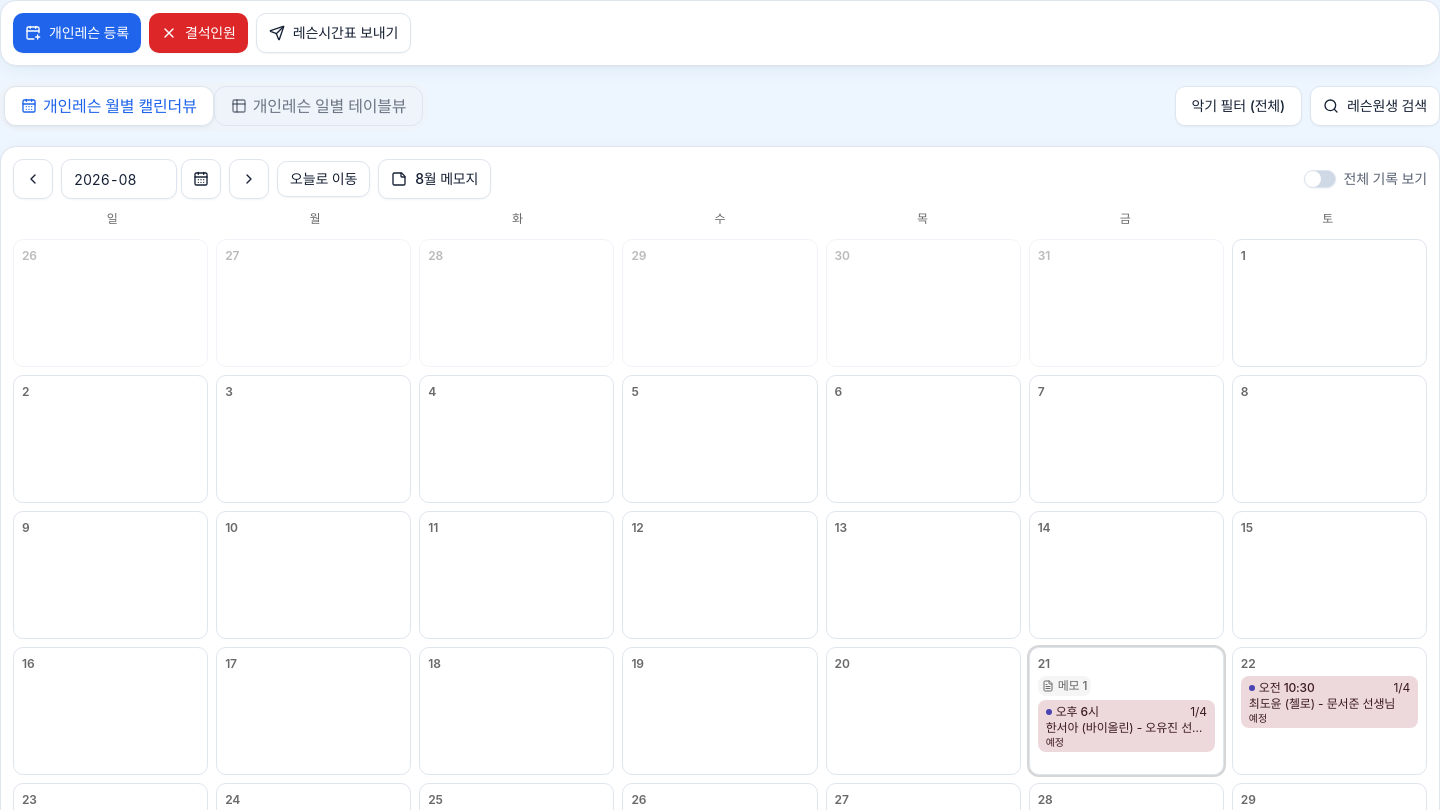
it: 개인레슨표 결석 사유 › 출석 확인에서 사유를 입력해 결석 처리하면 결석인원 표 사유 열에 바로 보인다
Click the cell "21 메모 1 오후 6시 1/4 한서아 (바이올린) - 오유진 선생님 예정" at (1126, 711), box [1029, 647, 1224, 775]
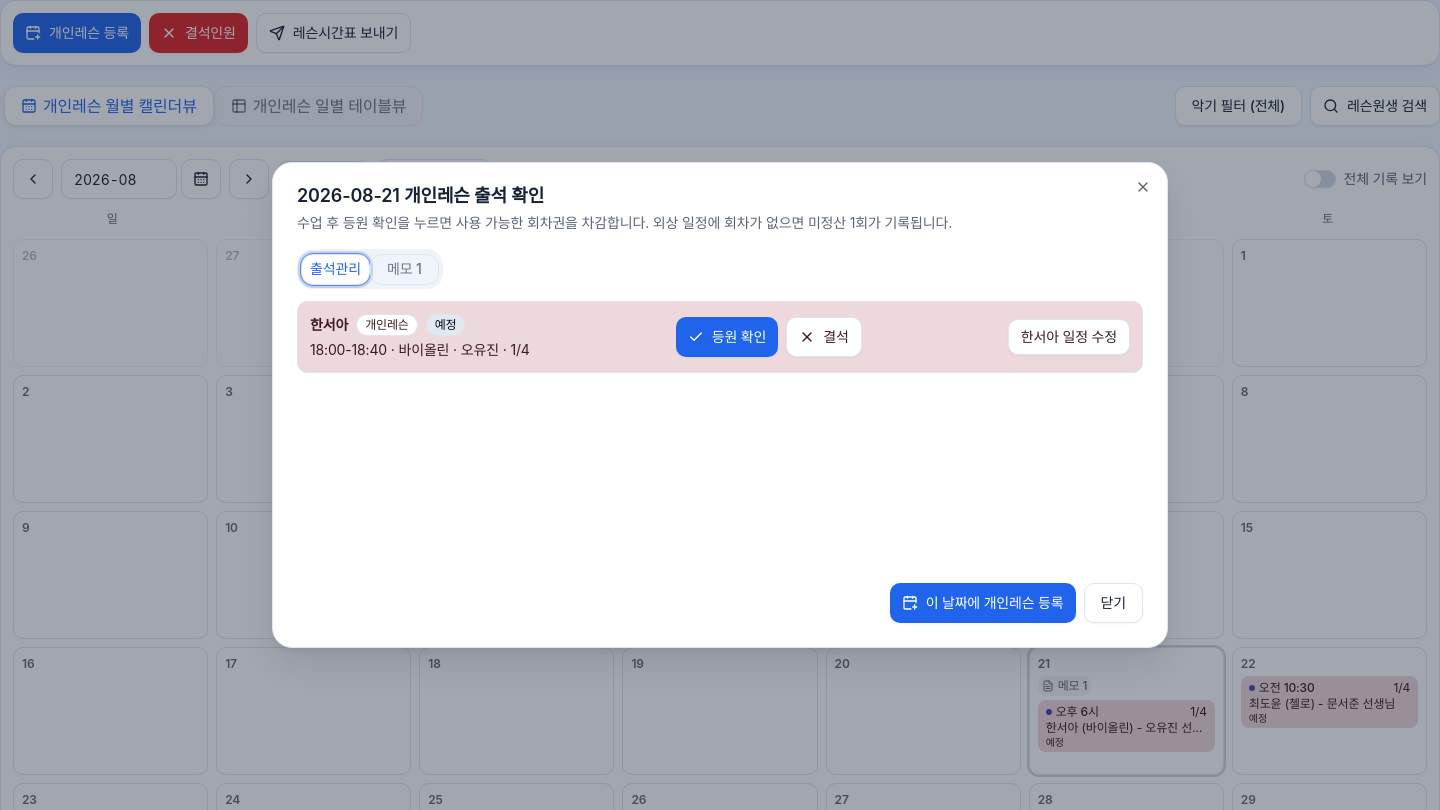
Click the button with aria-label "한서아 개인레슨 결석" at (824, 337), box [786, 317, 862, 357]
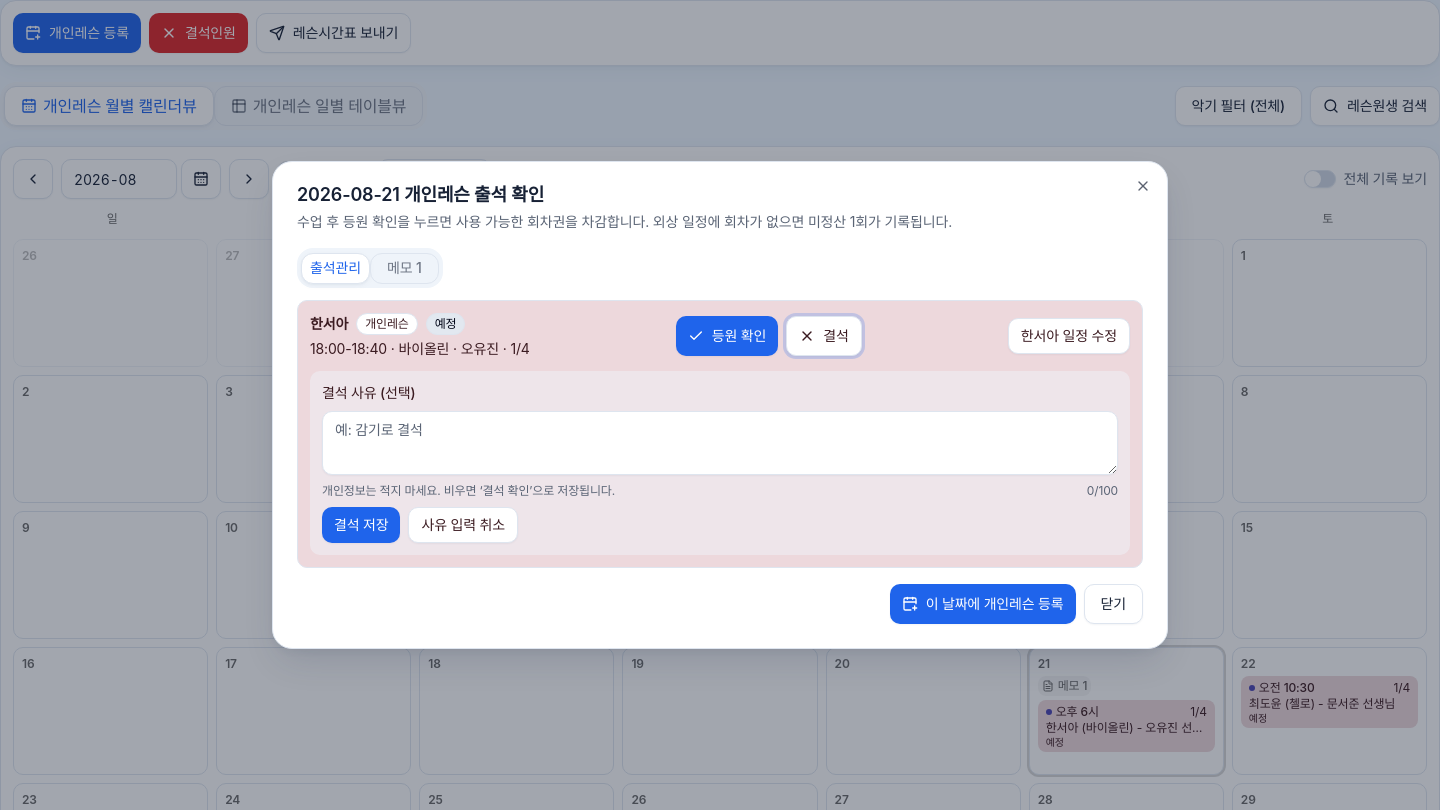
Type "감기로 결석" into the text box labelled "결석 사유 (선택)" at (720, 443), box [322, 411, 1118, 475]
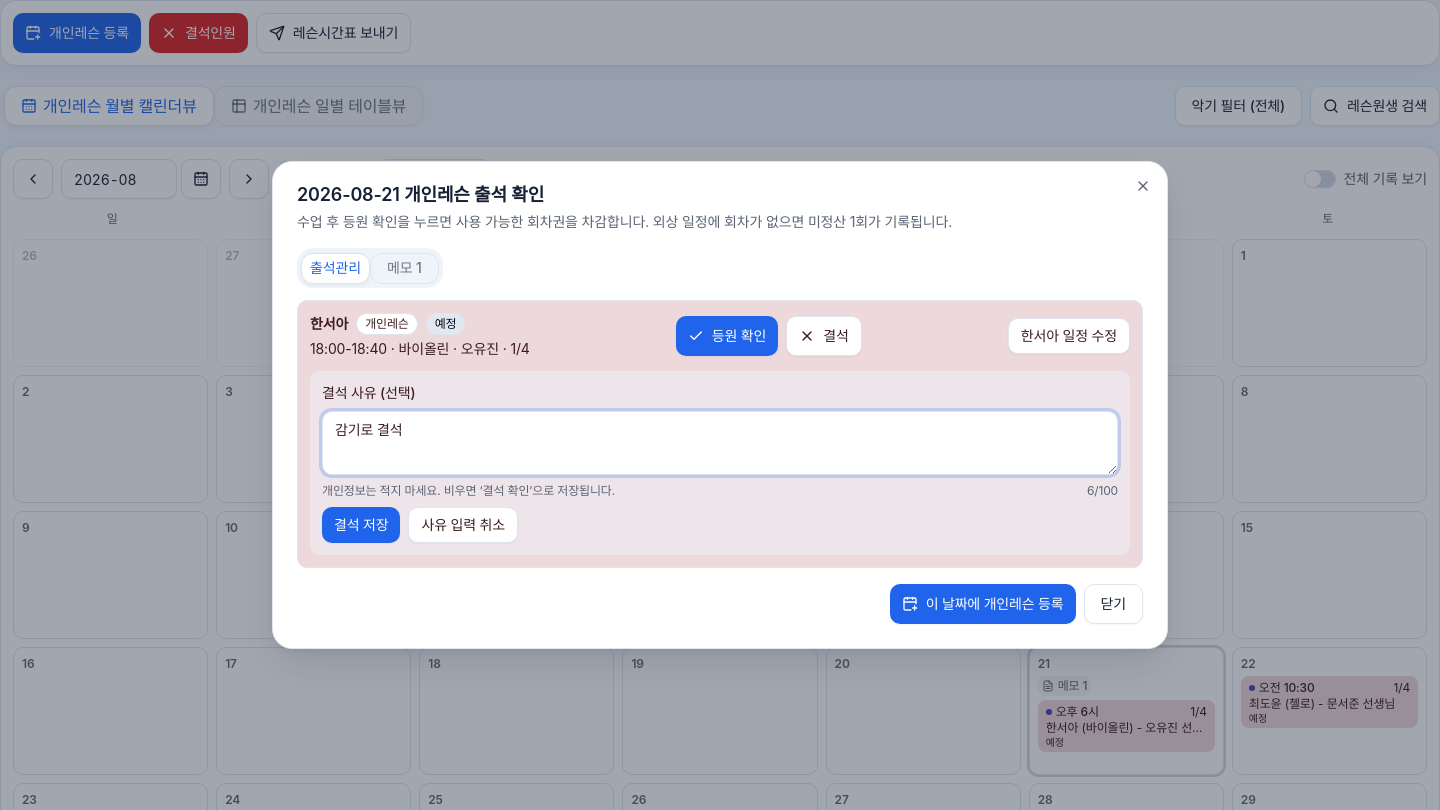
Click the button "결석 저장" at (361, 525), box [322, 507, 400, 543]
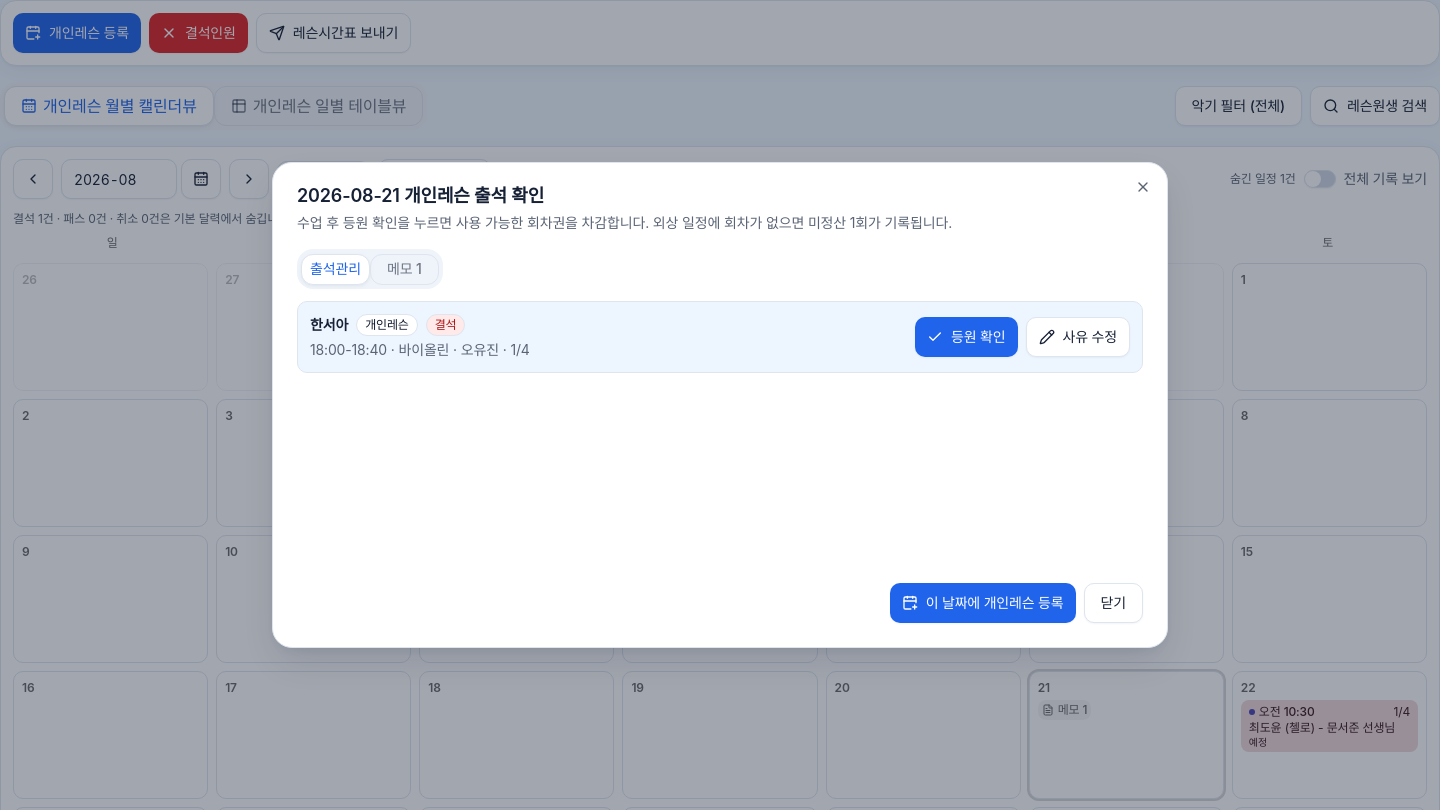
Click the button named "Close" at (1143, 187), box [1135, 179, 1151, 195]
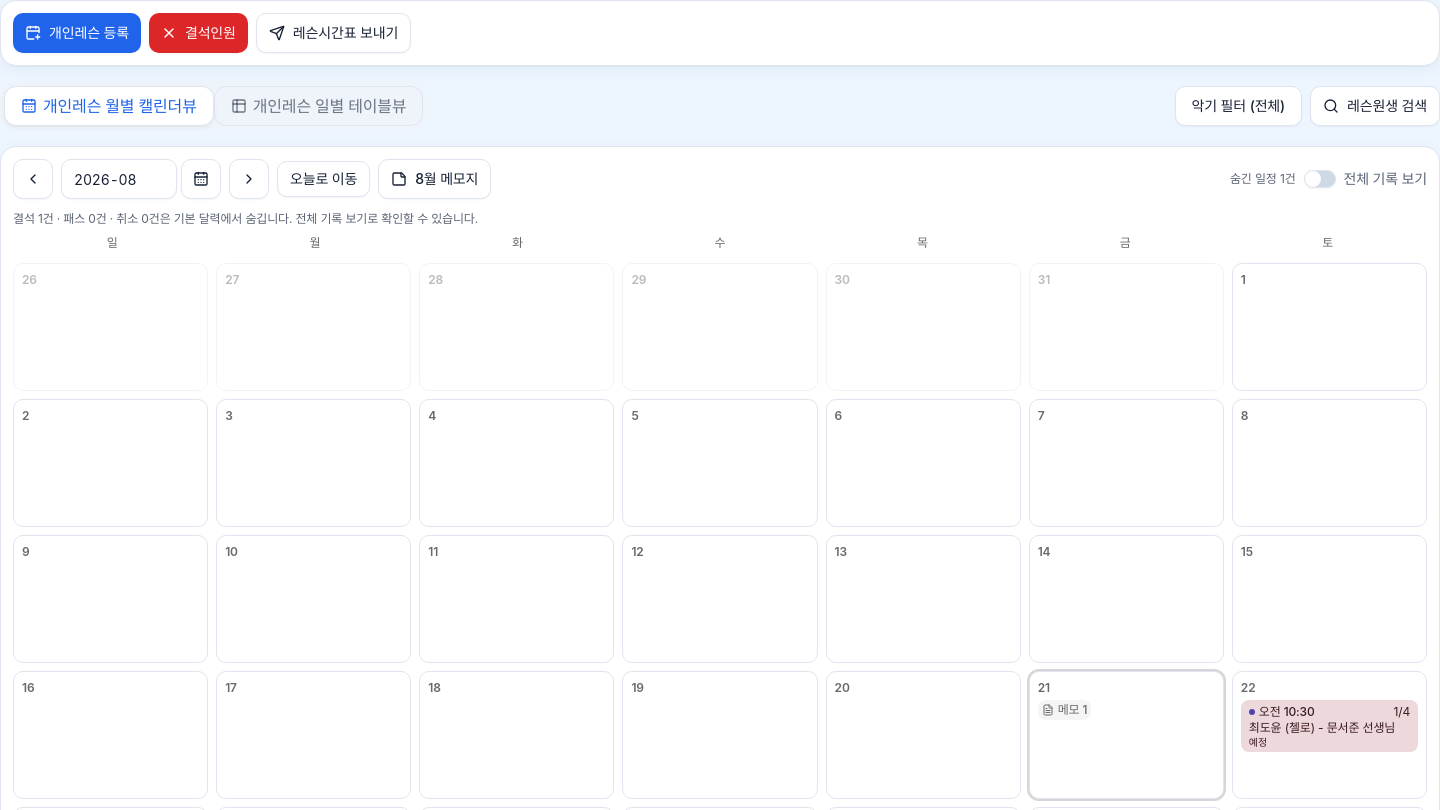
Click the button "결석인원" at (198, 33), box [149, 13, 248, 53]
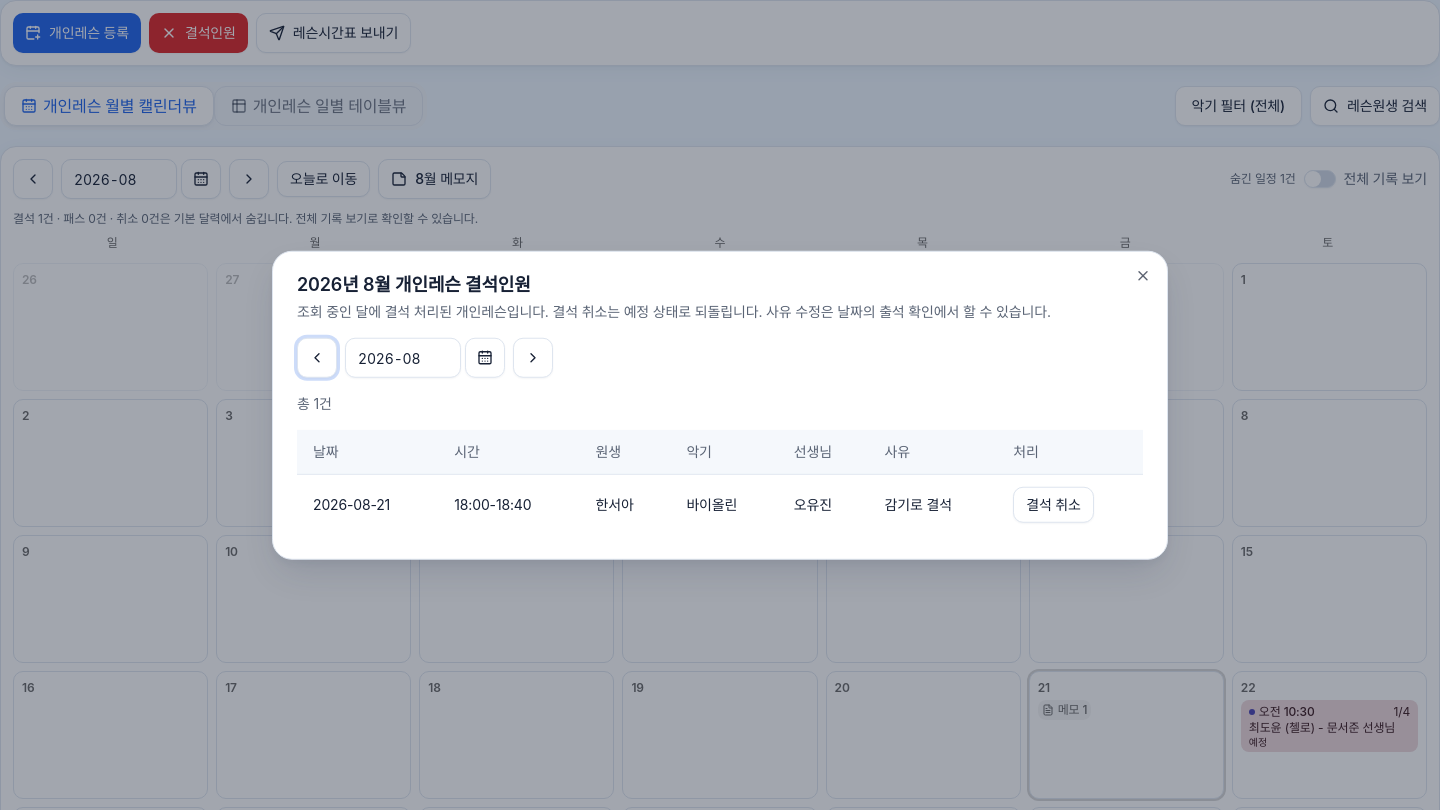
Expected: the row "2026-08-21 18:00-18:40 한서아 바이올린 오유진 감기로 결석 결석 취소" is shown, [297, 474, 1143, 534]
